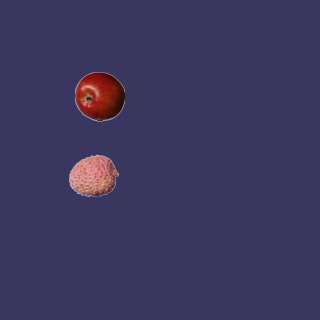Apple Braeburn: (74, 71, 124, 121)
Lychee: (68, 150, 118, 200)
